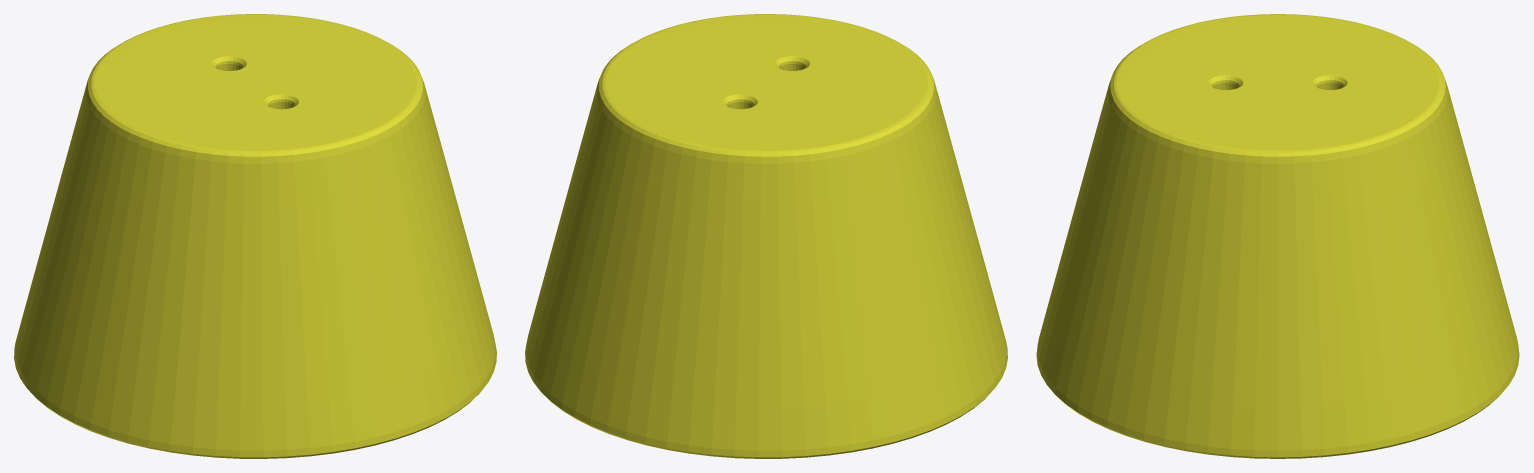
Rendered from canister_plug.fbx.
3 renders of one model, left to right at view 1: azimuth 30°, elevation 25°; view 2: azimuth 150°, elevation 25°; view 3: azimuth 270°, elevation 25°, orthographic.
Visible parts, largest first — view 1: Plug; view 2: Plug; view 3: Plug.
Boxes of the visible parts, <box> form: Plug: <box>14,14,496,458</box>; Plug: <box>525,14,1007,458</box>; Plug: <box>1036,14,1519,458</box>.
Bounding box in the file's own units: 11.11 × 7 × 11.11.
